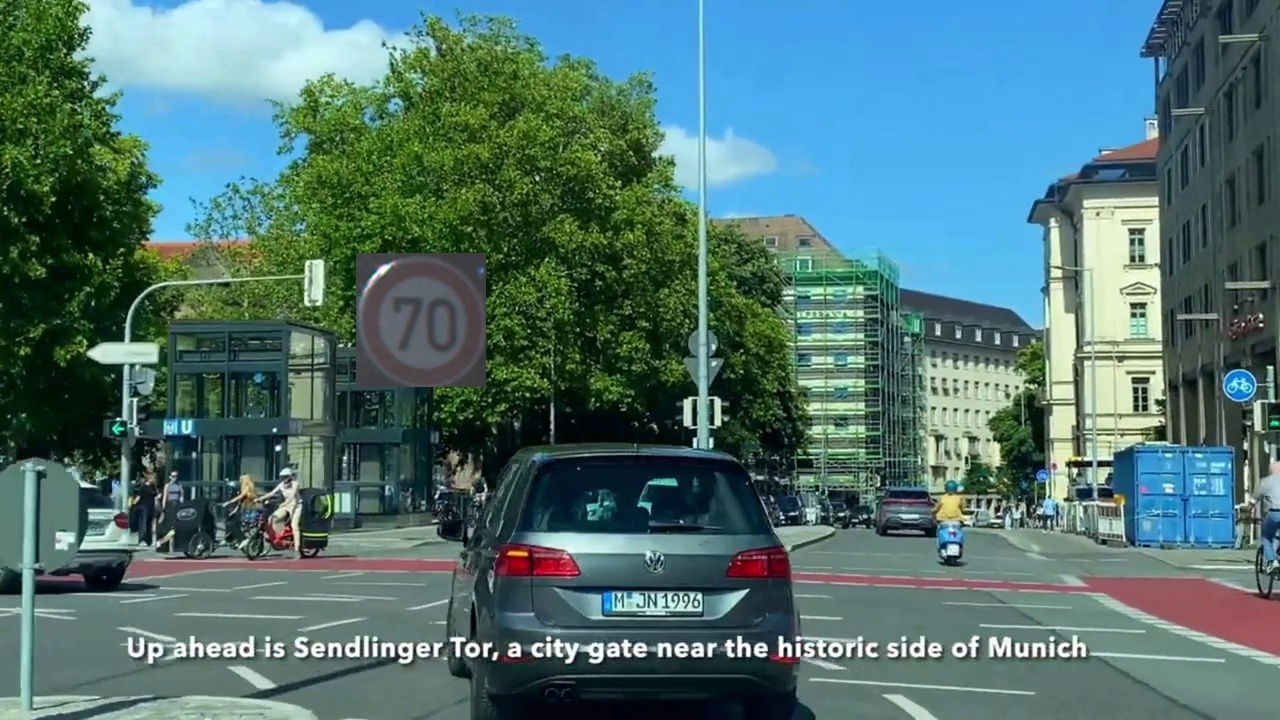Speed 70: (356, 253, 486, 387)
